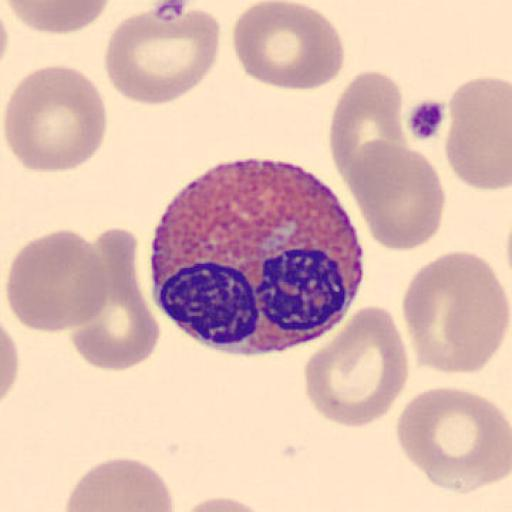RBC: (400, 249, 510, 376), (302, 303, 410, 430), (395, 385, 511, 495), (103, 4, 223, 106), (78, 224, 160, 372), (3, 63, 108, 174), (345, 139, 446, 252), (6, 228, 110, 334), (231, 0, 346, 92), (329, 69, 408, 188), (445, 77, 512, 191), (63, 455, 174, 512), (3, 0, 111, 35), (176, 493, 274, 512), (0, 322, 20, 403)
WBC: (146, 156, 366, 357)
